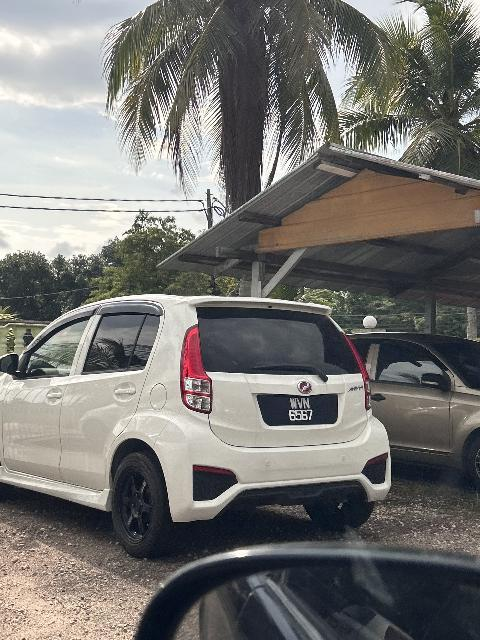License_Plate: (263, 396, 338, 427)
WVN6567: (263, 396, 338, 427)
car: (6, 296, 394, 556)
